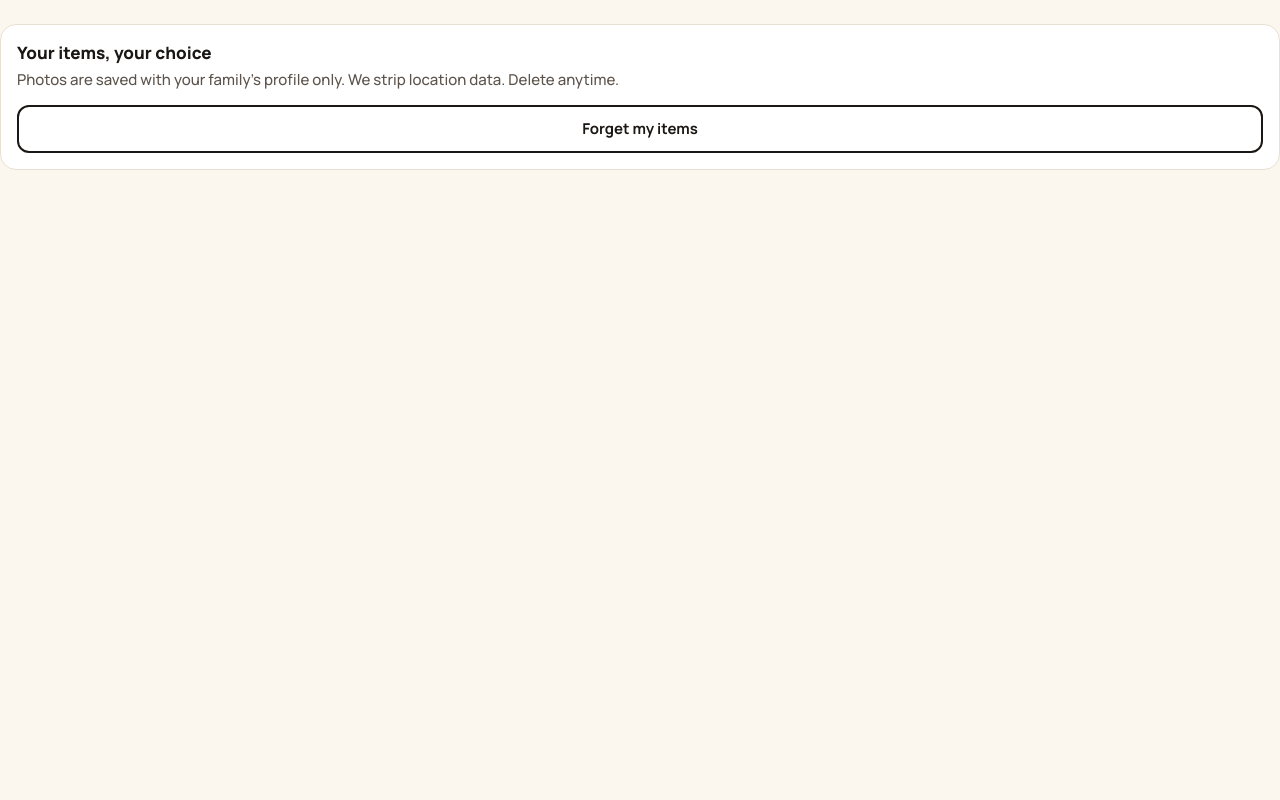
Test: ForgetItemsCard › says so plainly when there was nothing saved
Click the button "Forget my items".
click(640, 129)  # box [17,105,1263,153]
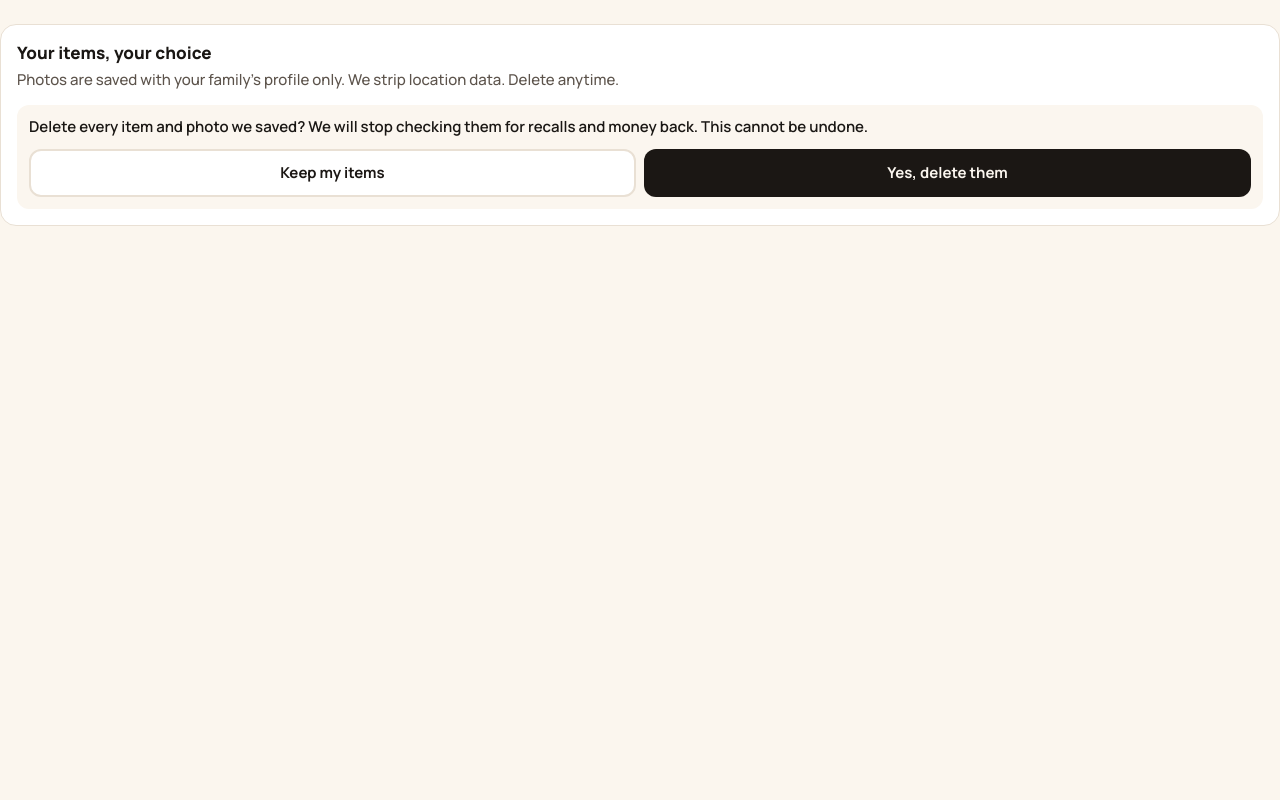
Click the button "Yes, delete them".
click(948, 173)  # box [644,149,1251,197]
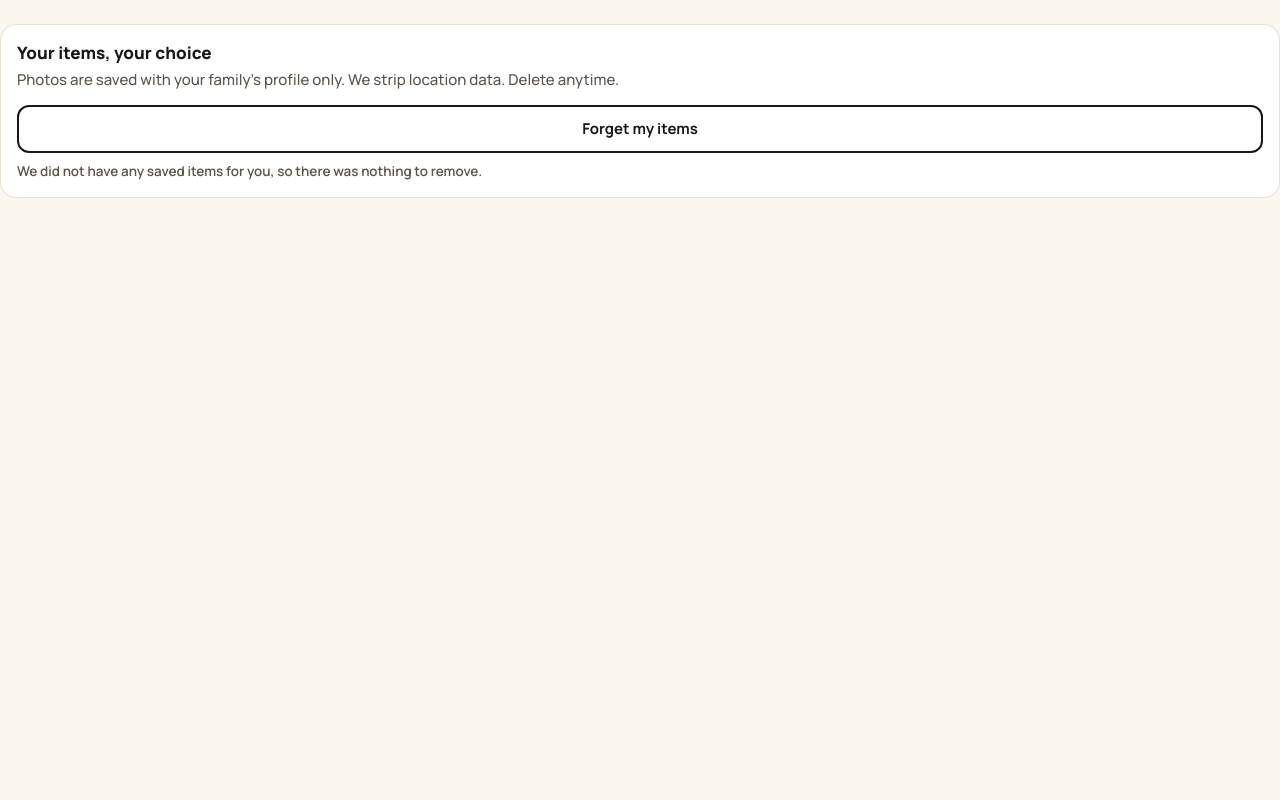
Expected: the message shows "did not have any saved items", [17,162,482,180]
